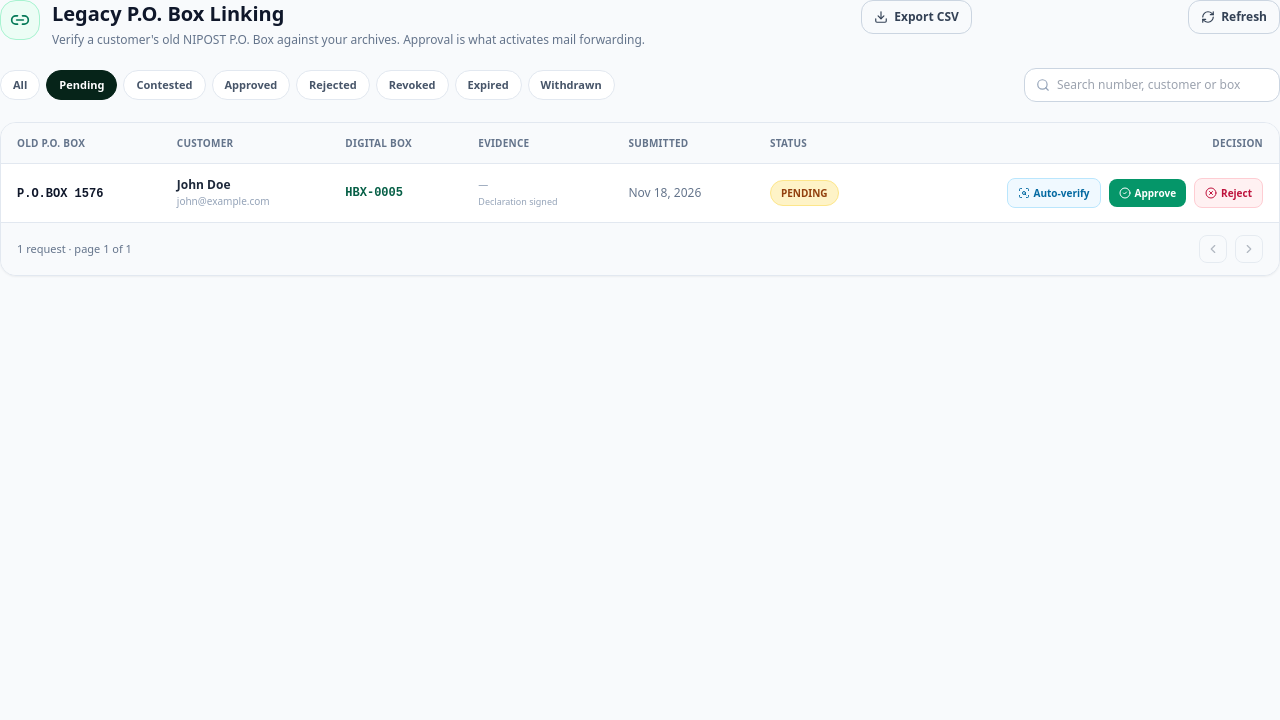
Test case: LegacyBoxLinkRequests › refuses to reject without a reason
The width and height of the screenshot is (1280, 720).
Step 1. Click the button "Reject" → click(1228, 193), box [1194,178,1263,208]
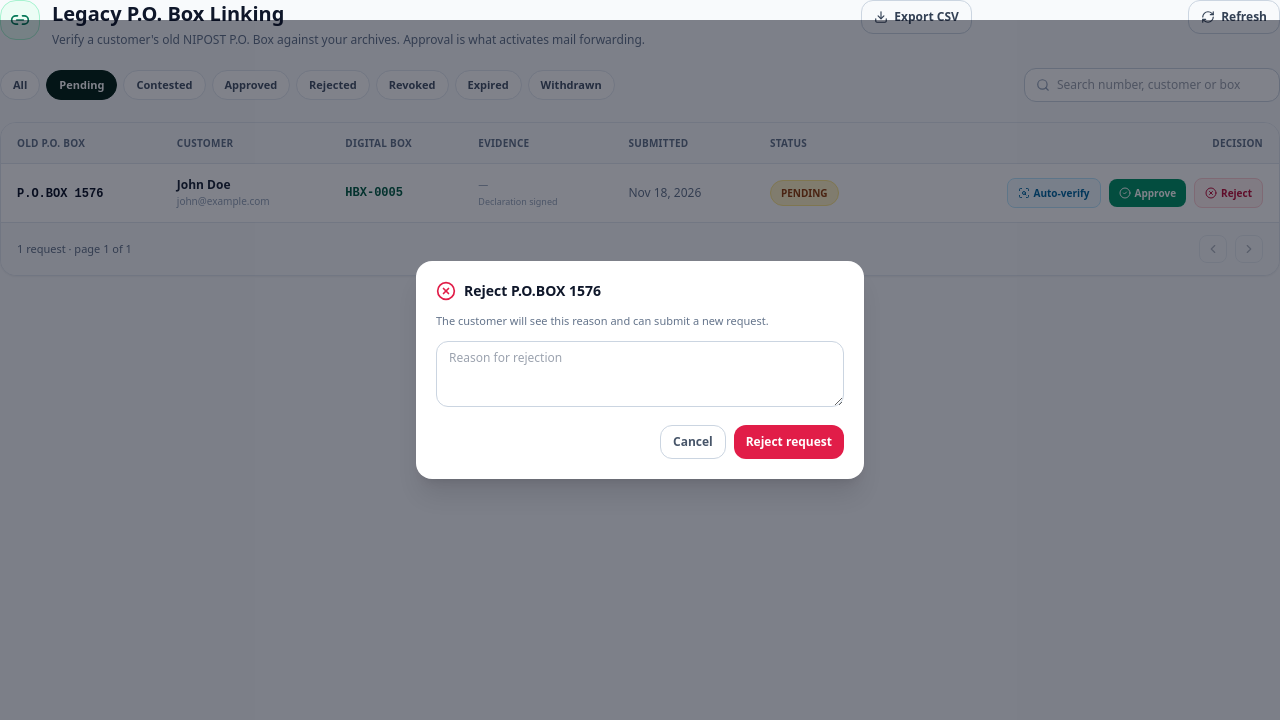
Step 2. Click the button "Reject request" → click(789, 442), box [734,425,844,459]
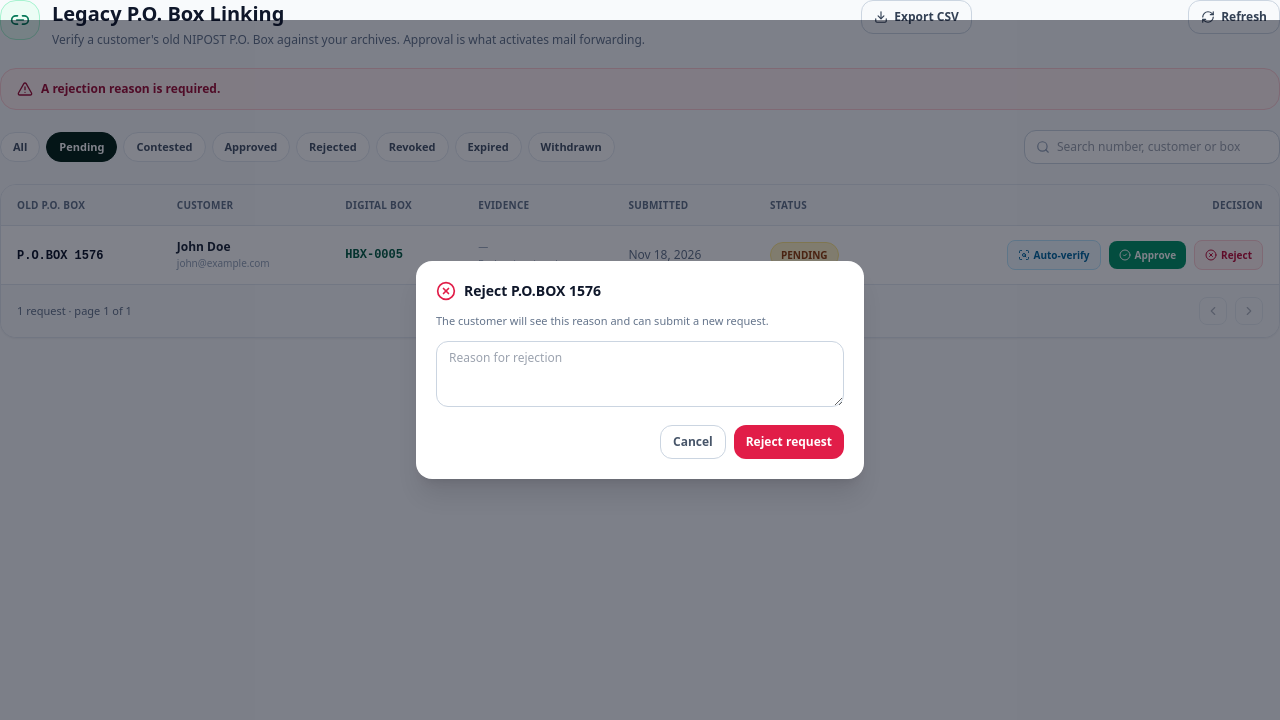
Check: the text "A rejection reason is required." is shown, box [0,68,1279,110]
